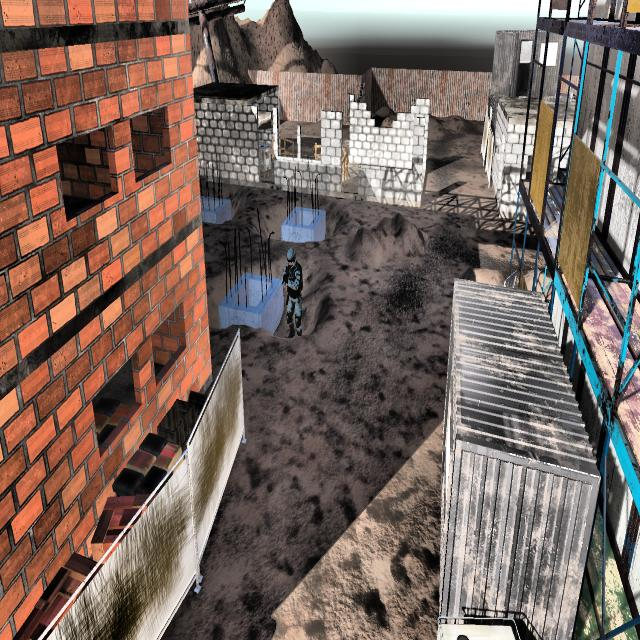bad: (277, 235, 311, 342)
